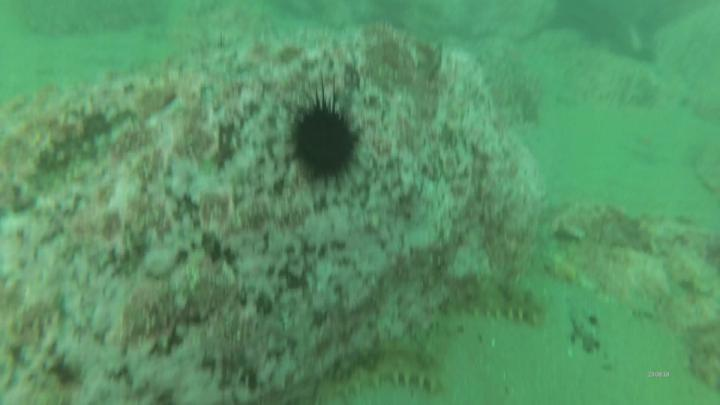echinus: (289, 98, 361, 188)
holothurian: (333, 340, 450, 399), (433, 273, 546, 330)
